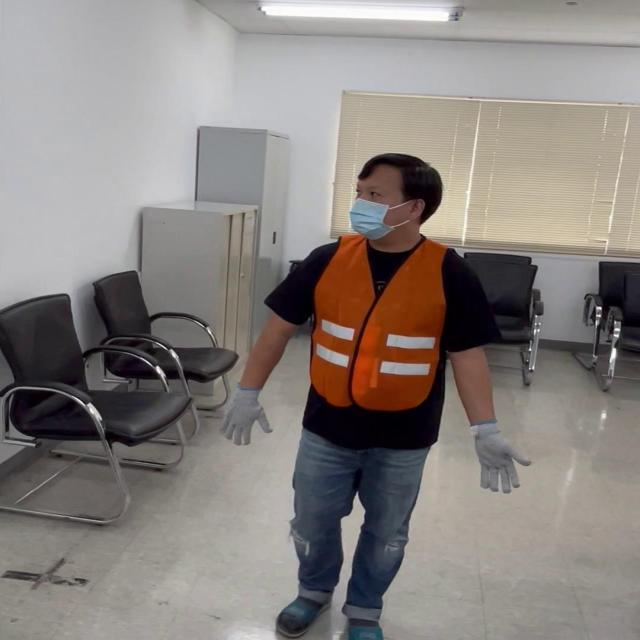gloved_hand: (468, 424, 529, 492), (222, 389, 277, 450)
